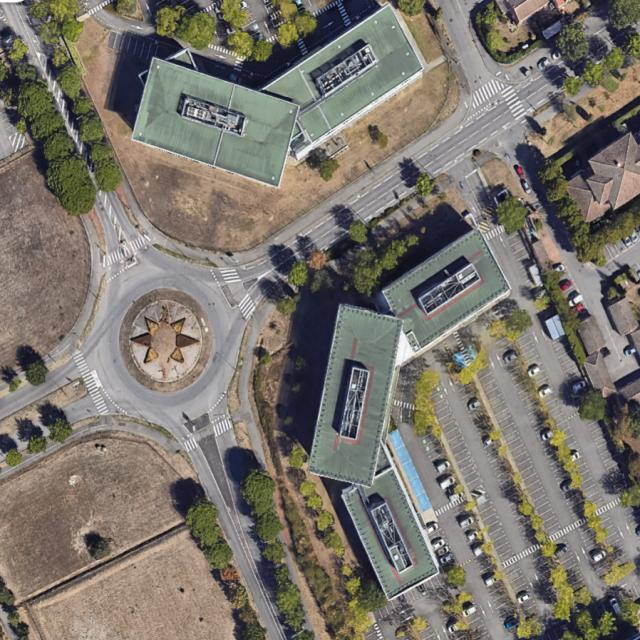immeuble: (249, 0, 432, 162), (125, 56, 307, 190), (373, 223, 520, 357), (306, 303, 403, 490), (339, 466, 442, 603)
